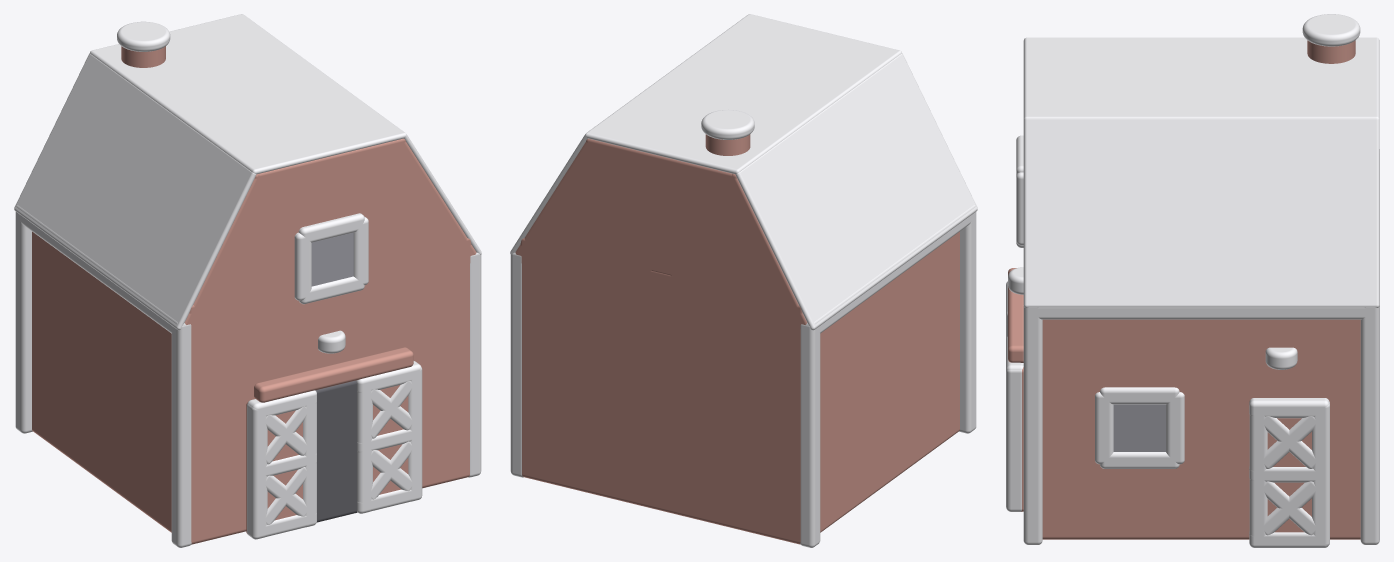
File: barn.gltf
3 views of the same model, side by side, from view 1: azimuth 30°, elevation 25°; view 2: azimuth 150°, elevation 25°; view 3: azimuth 270°, elevation 25° (orthographic). The views are drawn at different scales.
Visible parts, largest first — view 1: Red (×8), white (×7), White (×24), Black, Grey; view 2: Red (×5), white (×8), White; view 3: white (×4), Red (×4), White (×18), Grey.
Boxes of the visible parts, left/top/right/bottom form: Red (×8): left=32, top=46, right=476, bottom=544; white (×7): left=14, top=14, right=481, bottom=547; White (×24): left=117, top=21, right=481, bottom=539; Black: left=315, top=380, right=357, bottom=522; Grey: left=311, top=232, right=353, bottom=286; Red (×5): left=515, top=134, right=959, bottom=544; white (×8): left=510, top=14, right=977, bottom=547; White: left=701, top=110, right=754, bottom=139; white (×4): left=1023, top=37, right=1379, bottom=544; Red (×4): left=1008, top=40, right=1360, bottom=539; White (×18): left=1006, top=14, right=1360, bottom=547; Grey: left=1113, top=404, right=1165, bottom=451.
Bounding box in the file's own units: 5.99 × 7.26 × 5.83.
